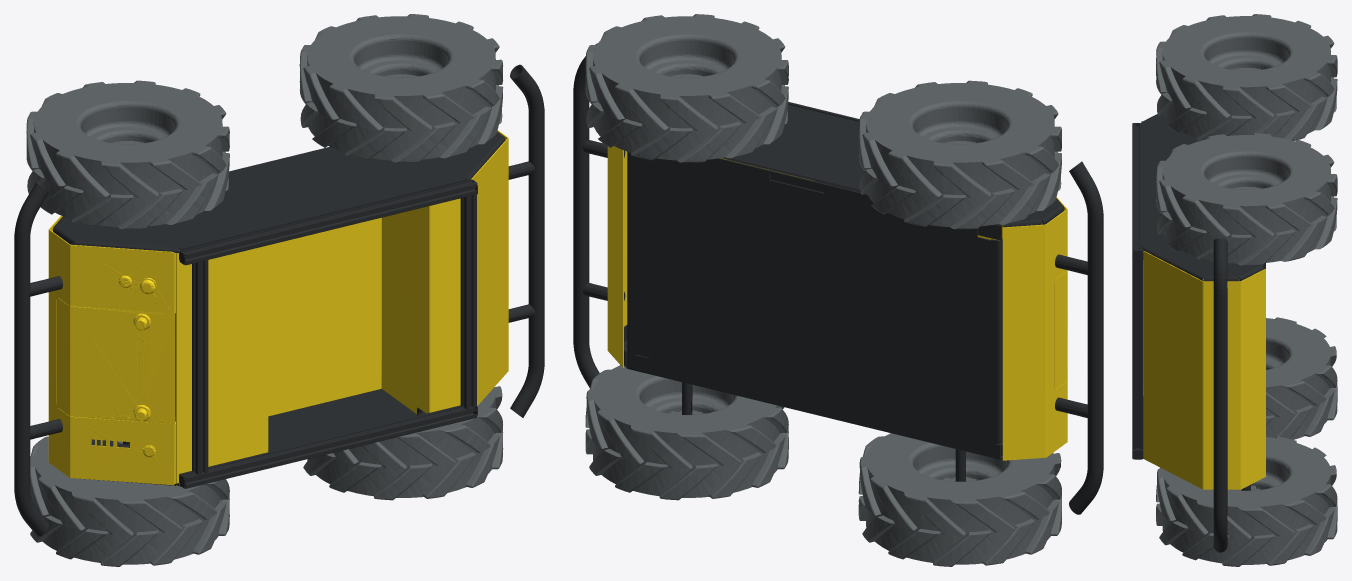
File: husky_A200.obj
3 renders of one model, left to right at view 1: azimuth 30°, elevation 25°; view 2: azimuth 150°, elevation 25°; view 3: azimuth 270°, elevation 25°, orthographic. The views are drawn at different scales.
Visible parts, largest first — view 1: group_16768282, group_6383466, group_2829873; view 2: group_2829873, group_6383466, group_16768282; view 3: group_6383466, group_16768282, group_2829873.
Part boxes in pixels (x1,y1,x2,y2): group_16768282: (48, 130, 508, 485); group_6383466: (26, 14, 503, 566); group_2829873: (14, 64, 544, 536); group_2829873: (573, 43, 1103, 514); group_6383466: (585, 14, 1061, 566); group_16768282: (607, 146, 1067, 460); group_6383466: (1156, 14, 1337, 566); group_16768282: (1143, 251, 1265, 489); group_2829873: (1132, 114, 1265, 552).
Size of the model in its own units: 9.9 by 7.2 by 3.73.
